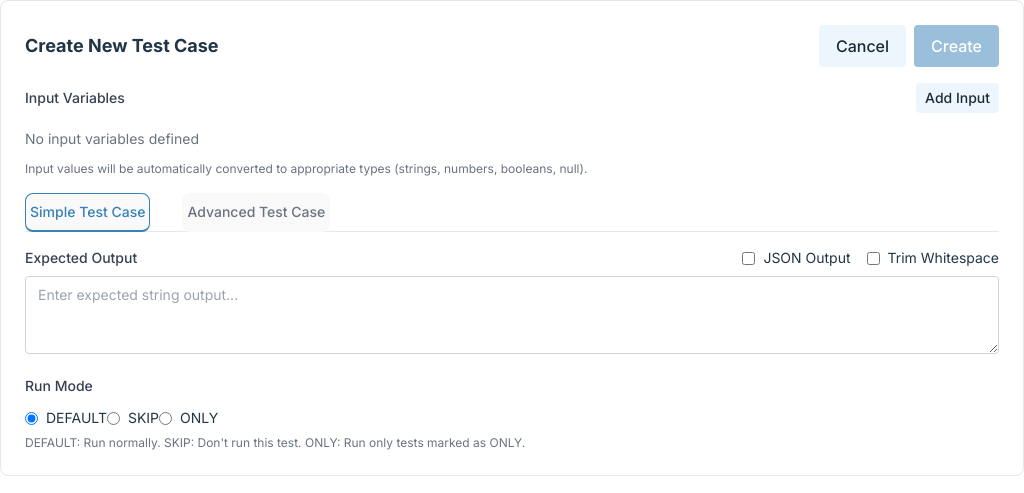
Scenario: TestCaseEditor › enables create button when test case has no input variables but has expected output
Expected: the button "Create" is disabled, x1=914 y1=25 x2=999 y2=67
Note: Add expected output without any input variables
Type "Expected result" into the text box with placeholder "Enter expected string output..." at coordinates (512, 315), box x1=25 y1=276 x2=999 y2=354
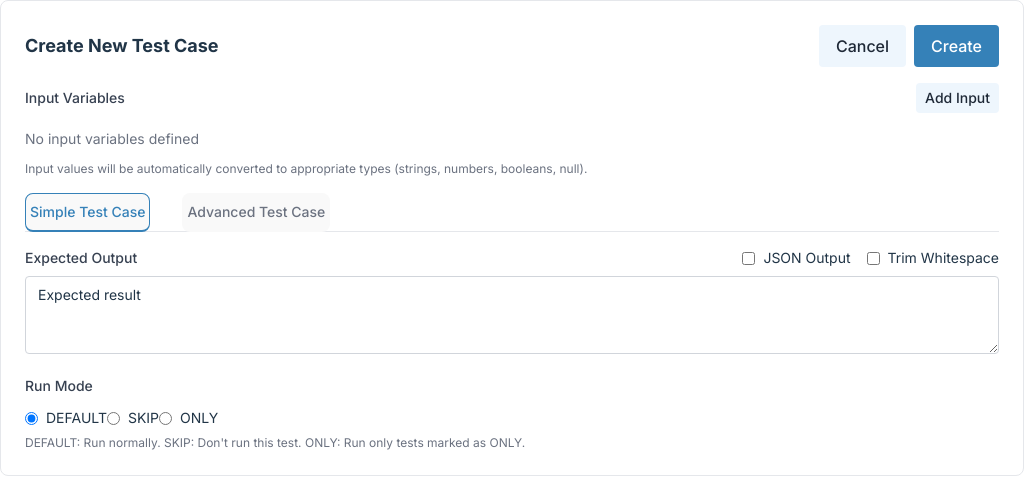
Expected: the button "Create" is enabled, x1=914 y1=25 x2=999 y2=67
